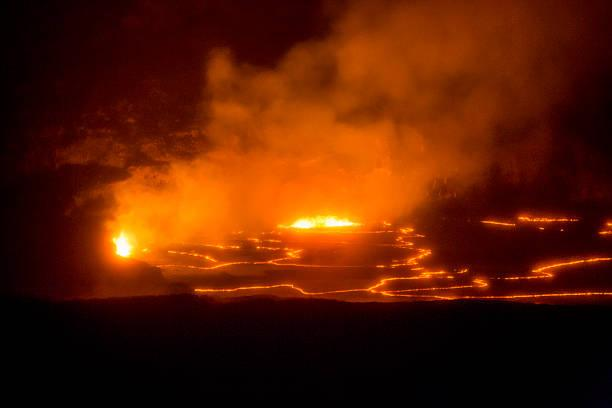Fire: (114, 193, 604, 300)
